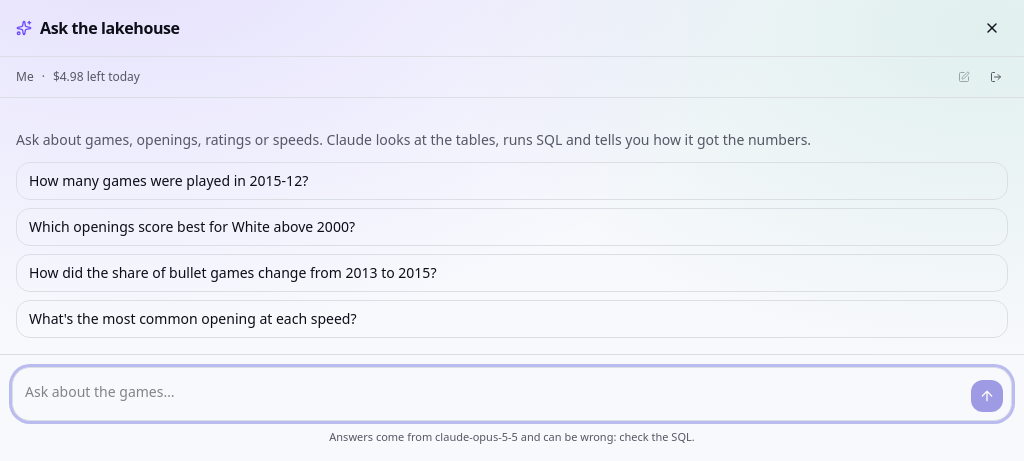
Test case: chat panel › streams an answer with its reasoning, the SQL it ran and the result
Expected: the text "$4.98 left today" is shown, [53, 69, 140, 85]
Type "How many games in 2015-12?" into the text box named "Your question" at (492, 394), box [21, 376, 963, 412]
Then press Enter
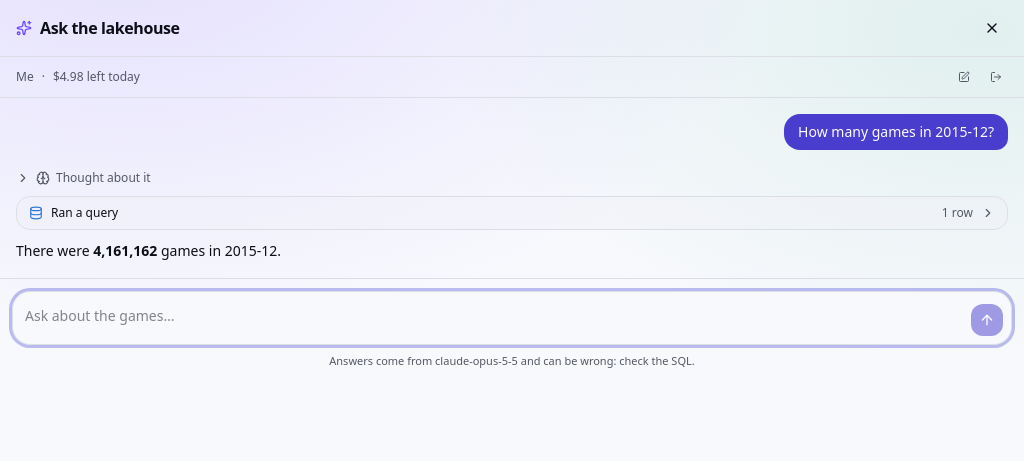
Now the text "4,161,162" is shown, box [93, 241, 157, 260]
Now the text "How many games in 2015-12?" is shown, box [784, 114, 1008, 150]
Now the text "Ran a query" is shown, box [51, 205, 118, 221]
